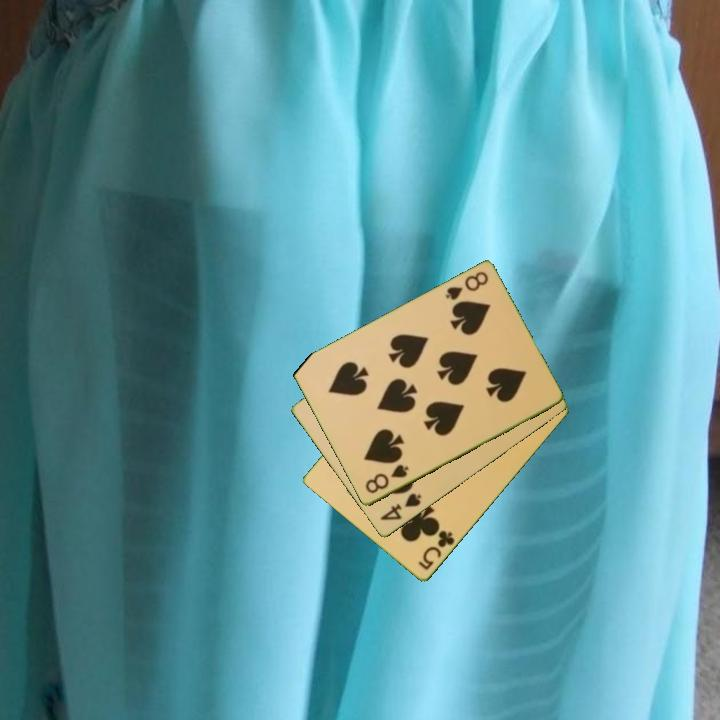4s: (376, 490, 424, 524)
5c: (414, 527, 458, 574)
8s: (361, 461, 412, 497), (442, 268, 491, 303)
